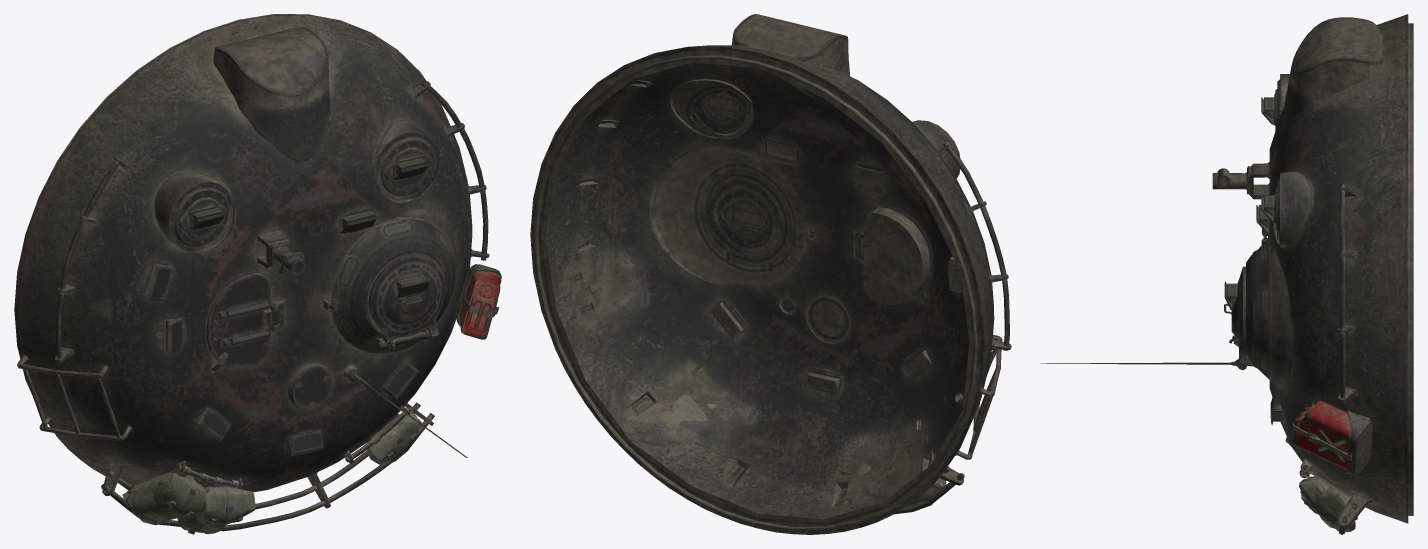
Rendered from Turret_01.glb.
3 views of the same model, side by side, from view 1: azimuth 30°, elevation 25°; view 2: azimuth 150°, elevation 25°; view 3: azimuth 270°, elevation 25° (orthographic). The views are drawn at different scales.
Visible parts, largest first — view 1: set_0_group_0, set_0_group_1; view 2: set_0_group_0, set_0_group_1; view 3: set_0_group_0, set_0_group_1.
Part boxes in pixels (<box>): set_0_group_0: <box>14,14,501,534</box>; set_0_group_1: <box>122,405,421,534</box>; set_0_group_0: <box>530,14,1011,534</box>; set_0_group_1: <box>657,364,946,507</box>; set_0_group_0: <box>1040,14,1413,534</box>; set_0_group_1: <box>1285,437,1357,532</box>.
Bounding box in the file's own units: 3.43 × 3.38 × 2.43.
2 materials, 2 textured.
